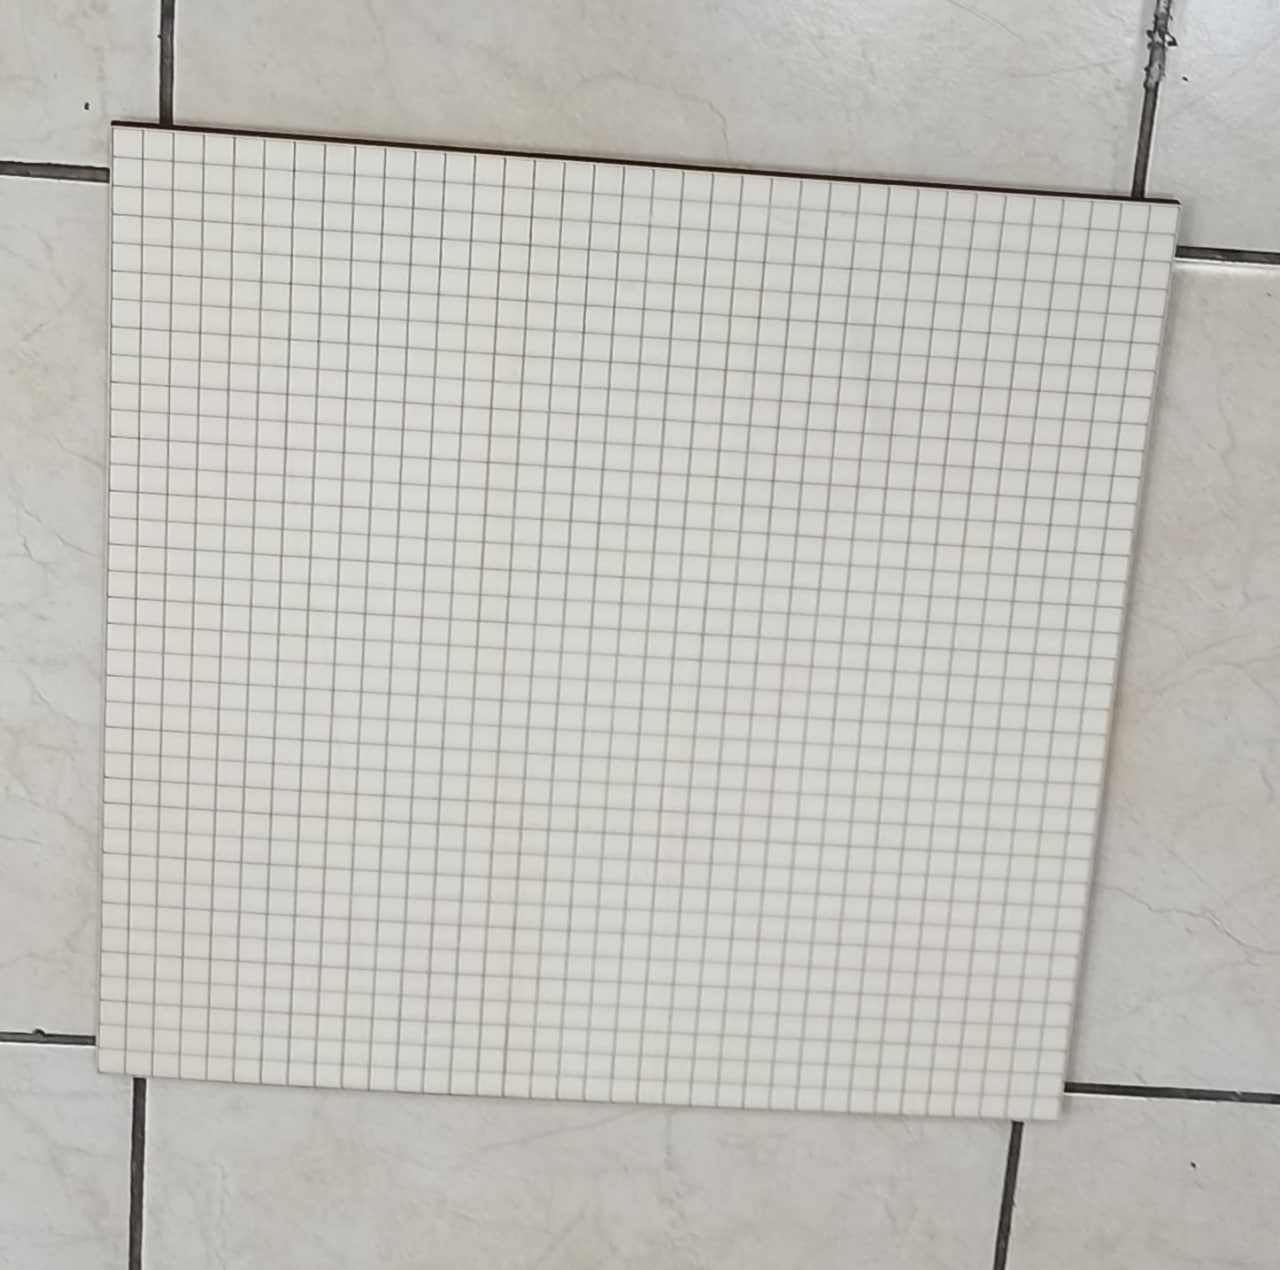grid: (91, 122, 1186, 1129)
